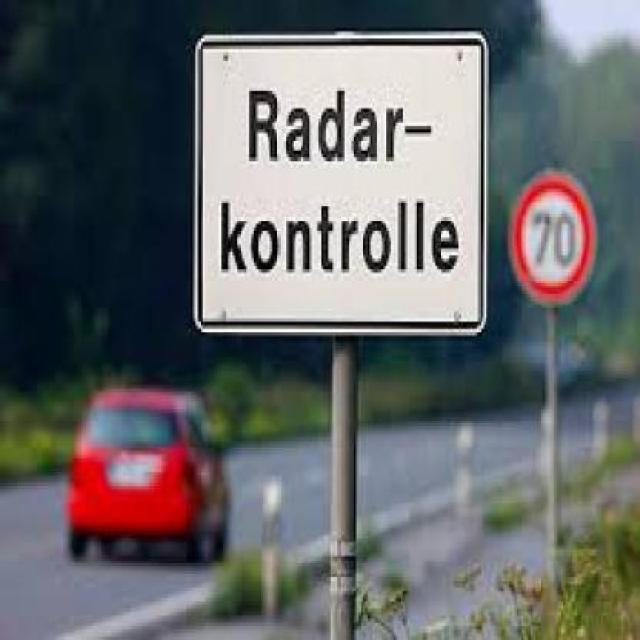forb_speed_over_70: (507, 168, 596, 304)
